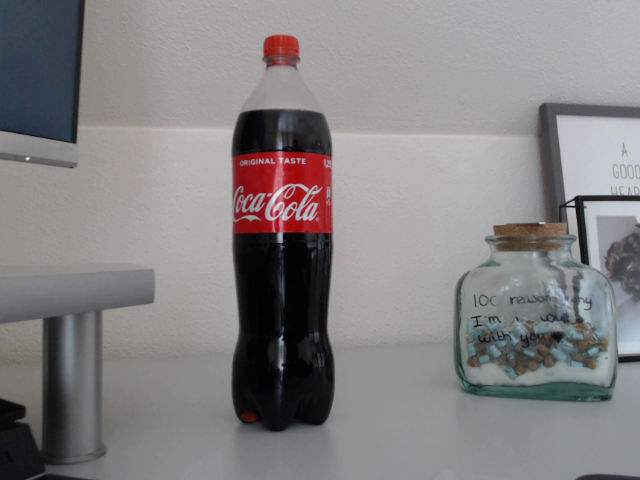bottle: (230, 34, 335, 433)
